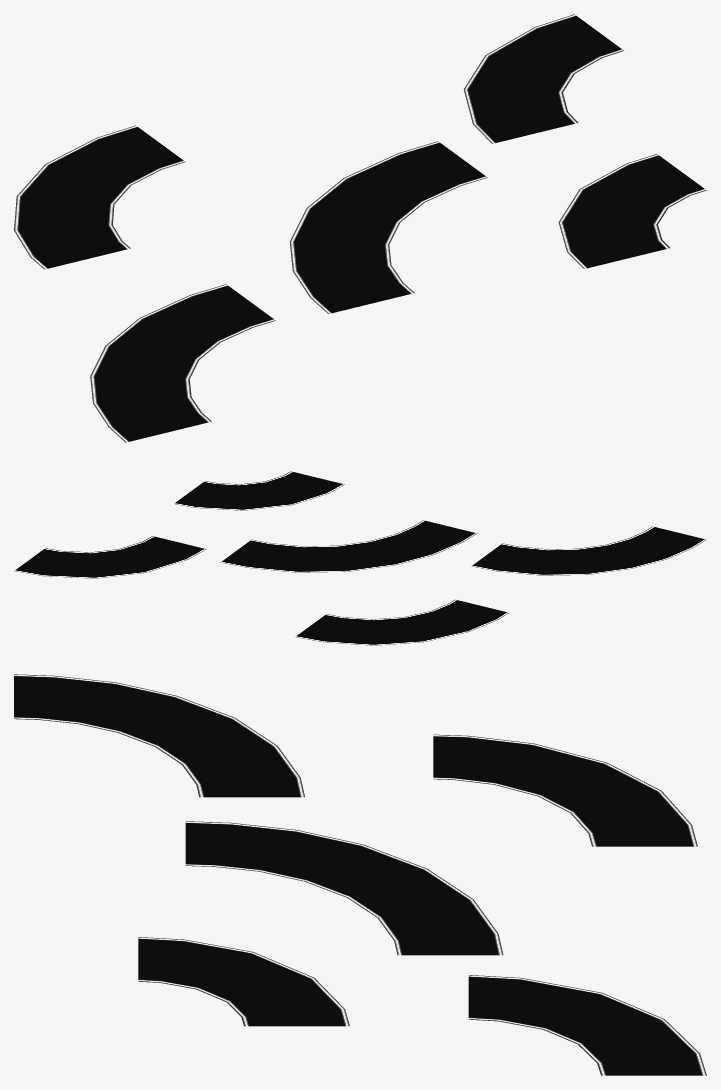
The model's file is 20W Curve 40-60 LOWPOLY.FBX.
3 views of the same model, one above another, from view 1: azimuth 30°, elevation 25°; view 2: azimuth 150°, elevation 25°; view 3: azimuth 270°, elevation 25° (orthographic). The views are drawn at different scales.
Visible parts, largest first — view 1: 20W 60R 90° LP, 20W 55R 90° LP, 20W 50R 90° LP, 20W 45R 90° LP, 20W 40R 90° LP; view 2: 20W 60R 90° LP, 20W 55R 90° LP, 20W 50R 90° LP, 20W 45R 90° LP, 20W 40R 90° LP; view 3: 20W 60R 90° LP, 20W 55R 90° LP, 20W 50R 90° LP, 20W 45R 90° LP, 20W 40R 90° LP.
Part boxes in pixels (x1,y1,x2,y2): 20W 60R 90° LP: (290, 141, 487, 313); 20W 55R 90° LP: (90, 284, 275, 442); 20W 50R 90° LP: (14, 125, 185, 269); 20W 45R 90° LP: (463, 14, 623, 143); 20W 40R 90° LP: (558, 154, 706, 268); 20W 60R 90° LP: (220, 520, 477, 572); 20W 55R 90° LP: (471, 526, 706, 575); 20W 50R 90° LP: (295, 599, 508, 645); 20W 45R 90° LP: (14, 536, 206, 578); 20W 40R 90° LP: (174, 471, 344, 510); 20W 60R 90° LP: (185, 821, 503, 955); 20W 55R 90° LP: (14, 674, 304, 797); 20W 50R 90° LP: (433, 734, 697, 846); 20W 45R 90° LP: (468, 975, 706, 1075); 20W 40R 90° LP: (138, 937, 349, 1026).
Size of the model in its own units: 179 by 1 by 131.
